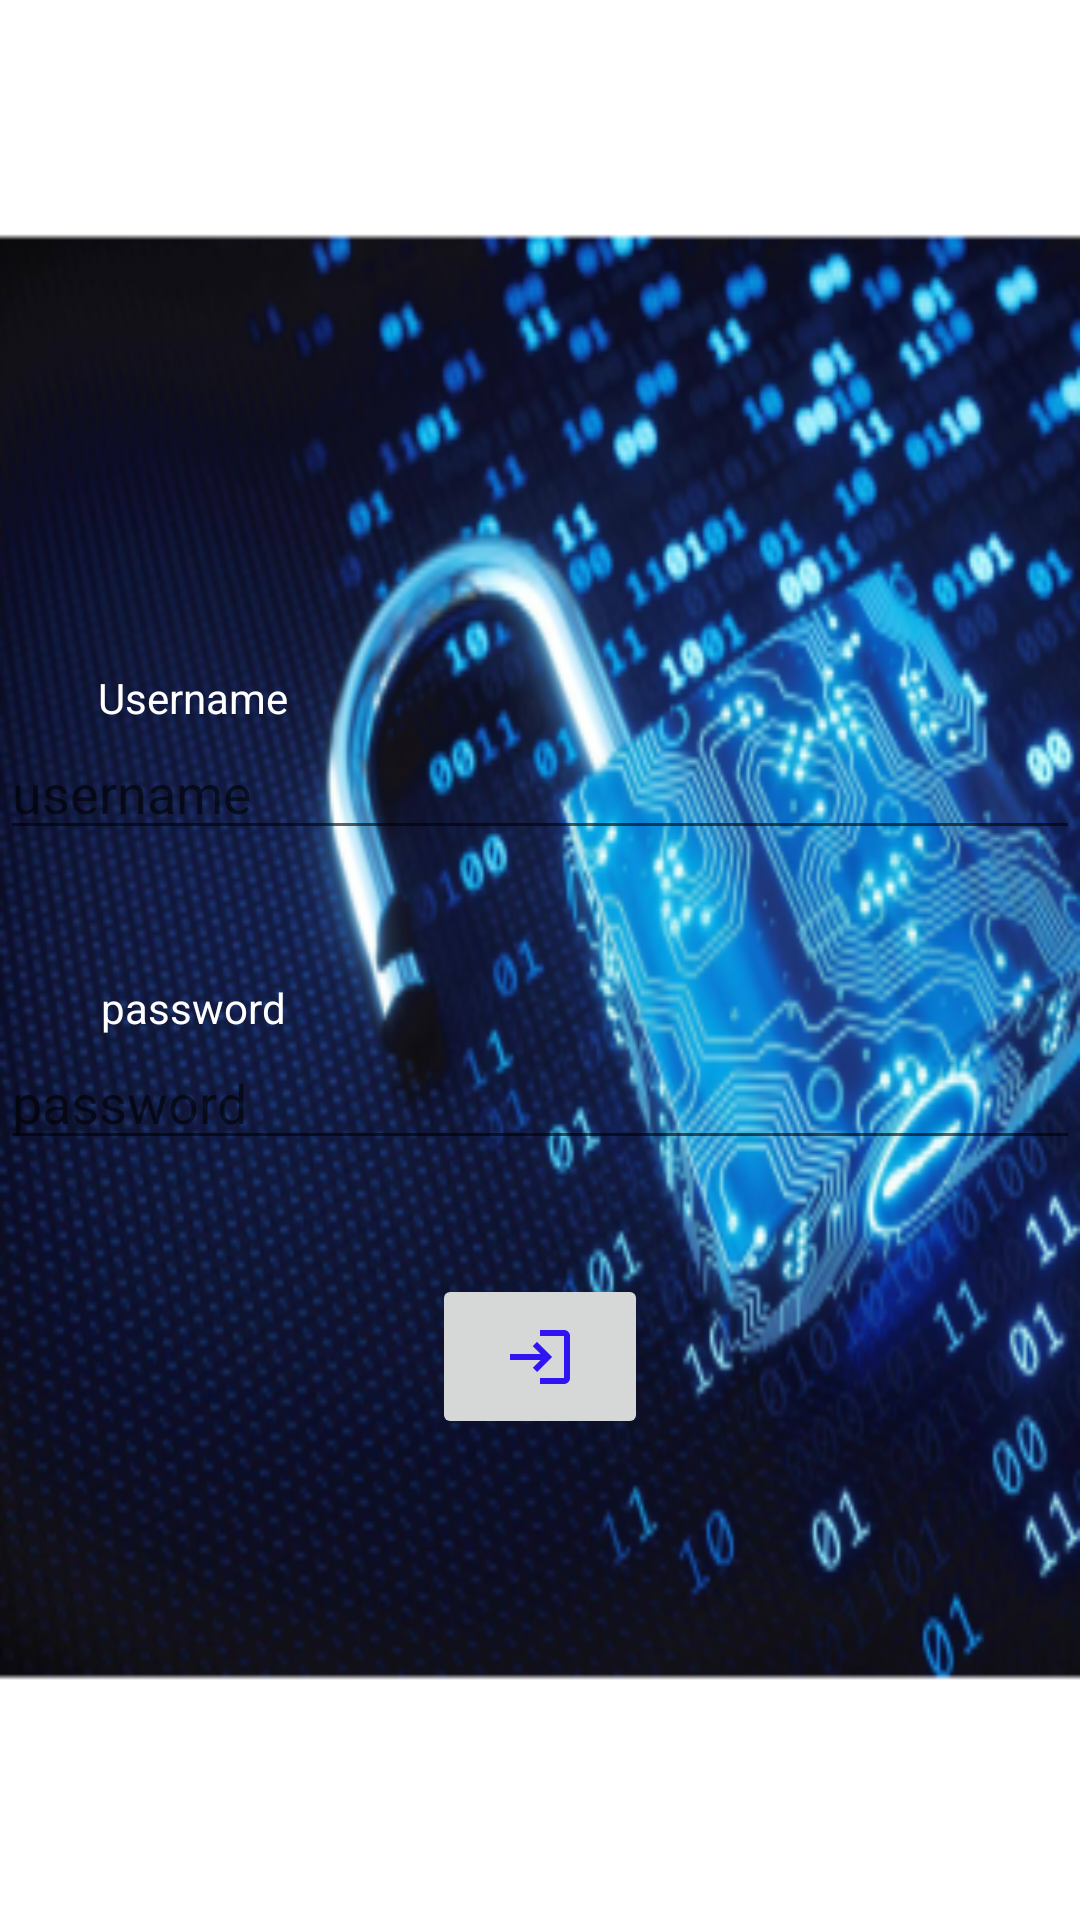

Where to tap for icons on this 1080×1920 app screen, as point (x, y):
login: point (540, 1356)
